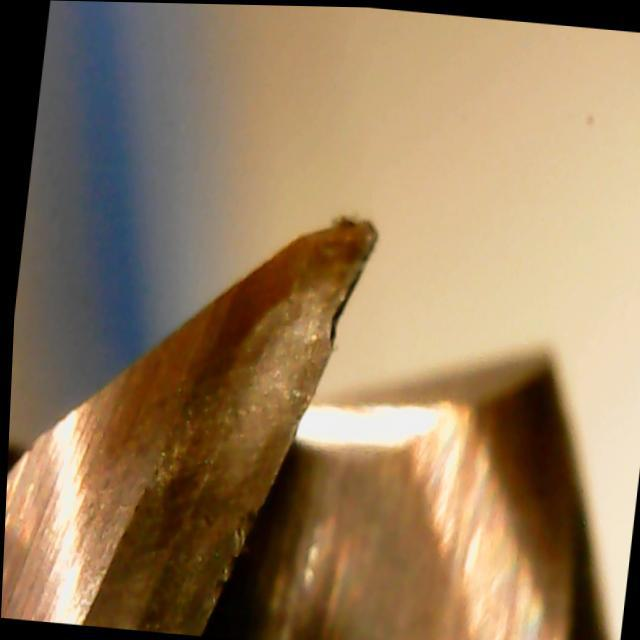Tool-wear-class-1: (188, 194, 399, 447)
